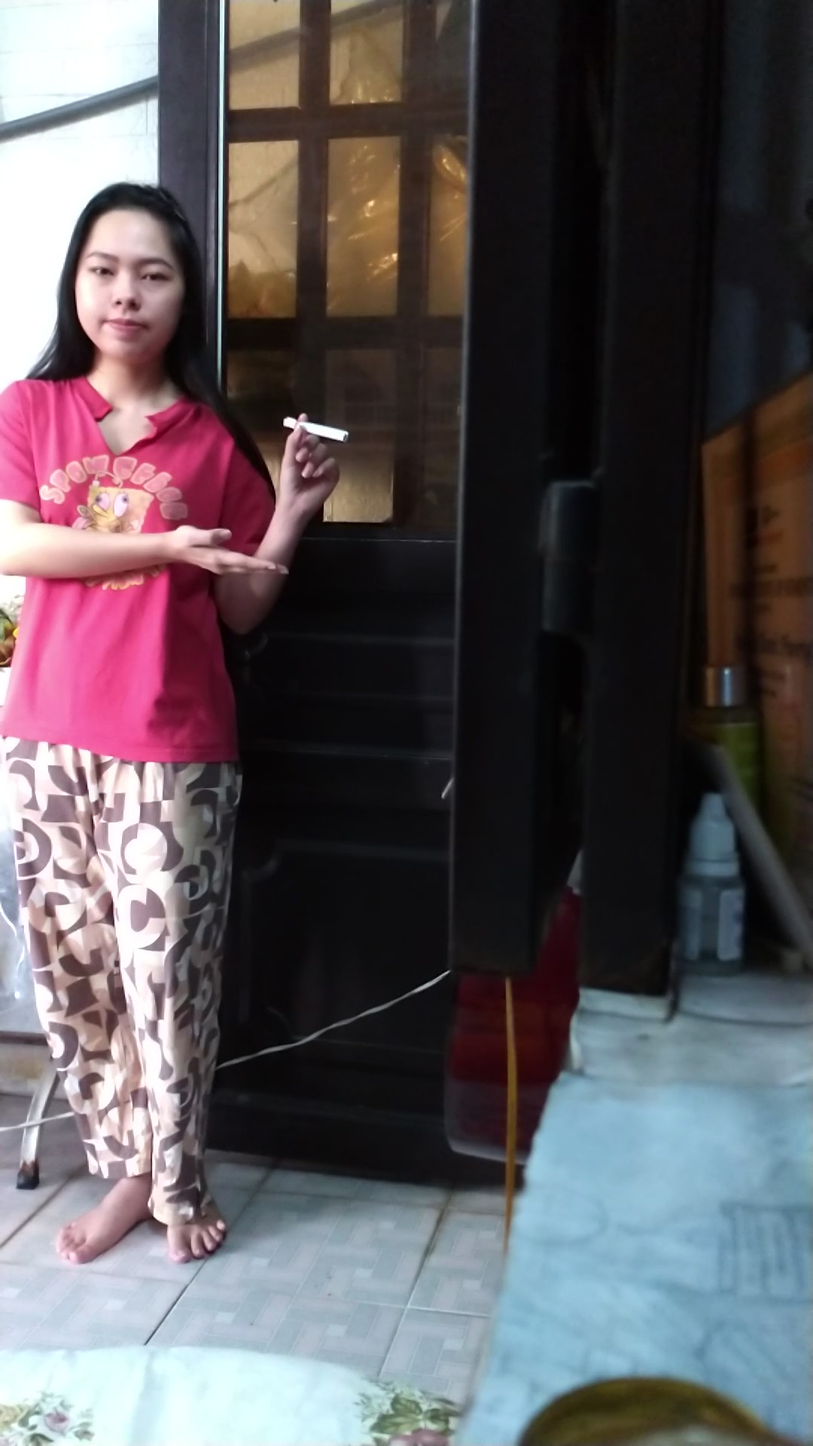cigarette: (279, 411, 351, 448)
person: (0, 133, 338, 1315)
